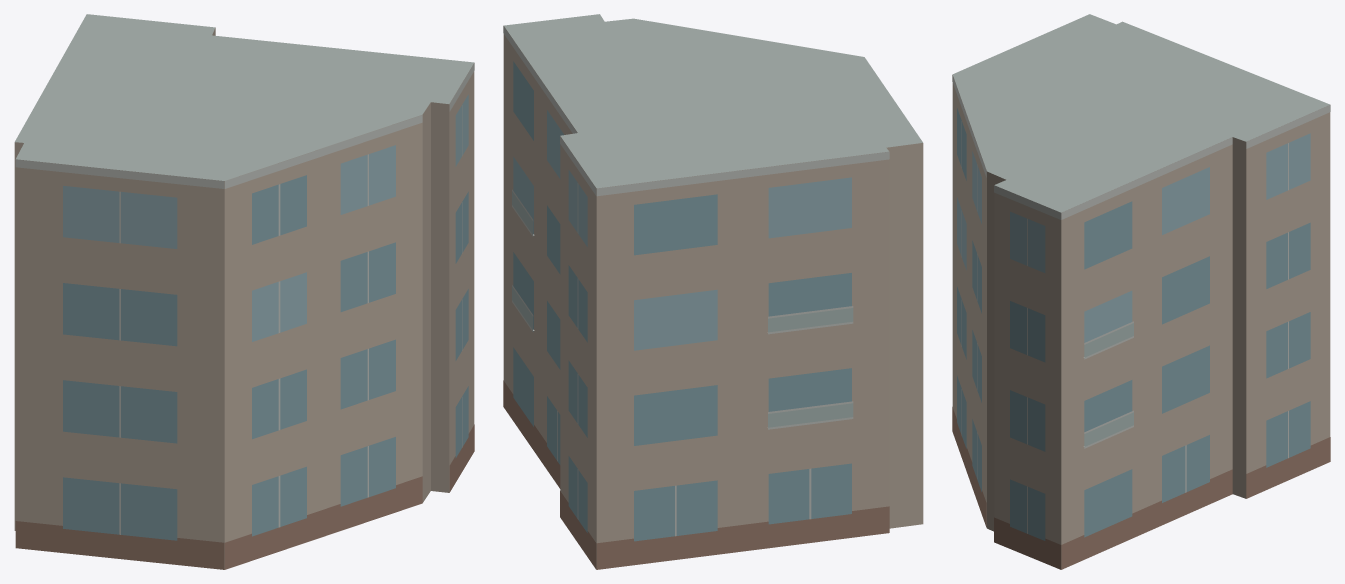
Rendered from survey-upis-32705949.glb.
3 views of the same model, side by side, from view 1: azimuth 30°, elevation 25°; view 2: azimuth 150°, elevation 25°; view 3: azimuth 270°, elevation 25° (orthographic). The views are drawn at different scales.
Parts seen in each view (by area): view 1: survey-upis-32705949.tmp; view 2: survey-upis-32705949.tmp; view 3: survey-upis-32705949.tmp.
Part boxes in pixels (x1,y1,x2,y2): survey-upis-32705949.tmp: (14,14,474,569); survey-upis-32705949.tmp: (503,14,923,569); survey-upis-32705949.tmp: (952,14,1330,569).
Size of the model in its own units: 14.09 by 11.8 by 11.32.
